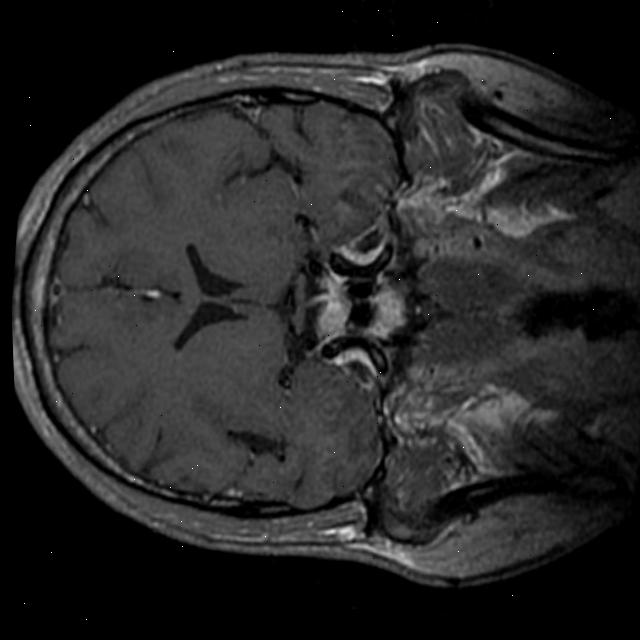Pituitary: (364, 270, 412, 341), (314, 272, 359, 340)
